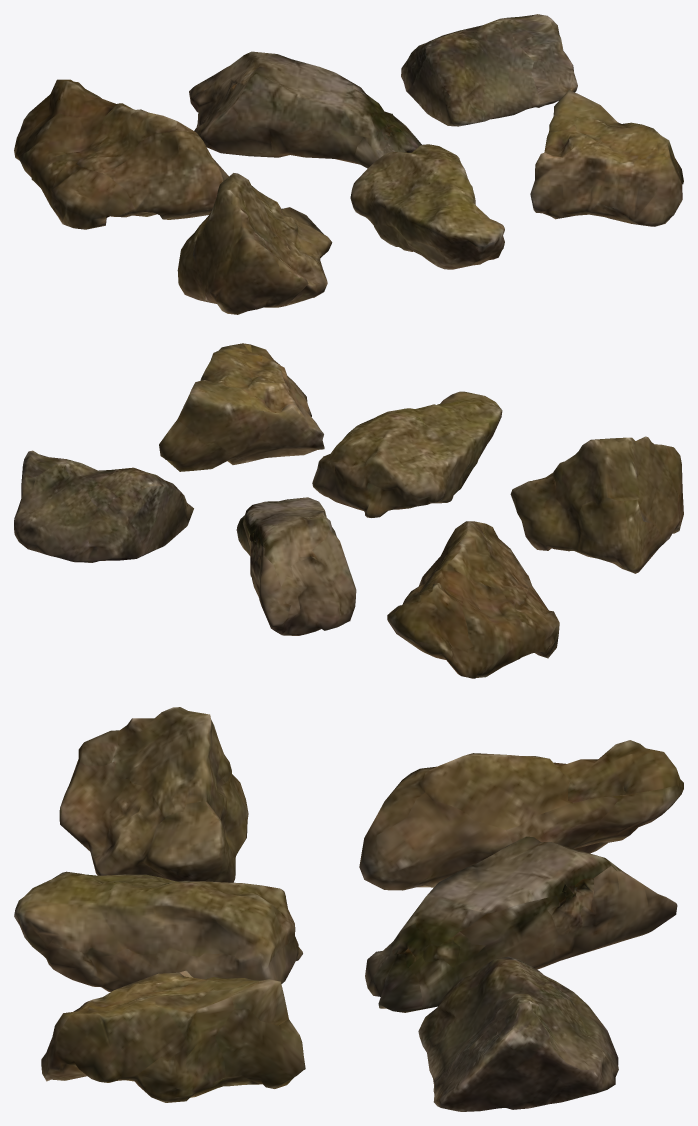
File: rock_moss_set_01.glb
The picture shows the model from 3 angles, top to bottom: view 1: azimuth 30°, elevation 25°; view 2: azimuth 150°, elevation 25°; view 3: azimuth 270°, elevation 25°; orthographic projection. The views are drawn at different scales.
Visible parts, largest first — view 1: rock_moss_set_01_rock01, rock_moss_set_01_rock02, rock_moss_set_01_rock06, rock_moss_set_01_rock04, rock_moss_set_01_rock03, rock_moss_set_01_rock05; view 2: rock_moss_set_01_rock04, rock_moss_set_01_rock01, rock_moss_set_01_rock05, rock_moss_set_01_rock03, rock_moss_set_01_rock06, rock_moss_set_01_rock02; view 3: rock_moss_set_01_rock01, rock_moss_set_01_rock02, rock_moss_set_01_rock05, rock_moss_set_01_rock04, rock_moss_set_01_rock06, rock_moss_set_01_rock03.
Part boxes in pixels (x1,y1,x2,y2): rock_moss_set_01_rock01: (14,79,228,229); rock_moss_set_01_rock02: (189,51,421,168); rock_moss_set_01_rock06: (530,89,683,226); rock_moss_set_01_rock04: (177,173,332,314); rock_moss_set_01_rock03: (401,14,577,126); rock_moss_set_01_rock05: (350,144,504,269); rock_moss_set_01_rock04: (510,436,683,573); rock_moss_set_01_rock01: (387,521,559,678); rock_moss_set_01_rock05: (312,391,502,517); rock_moss_set_01_rock03: (14,450,193,562); rock_moss_set_01_rock06: (159,343,324,471); rock_moss_set_01_rock02: (236,497,356,635); rock_moss_set_01_rock01: (359,740,683,890); rock_moss_set_01_rock02: (365,836,677,1012); rock_moss_set_01_rock05: (14,871,302,991); rock_moss_set_01_rock04: (59,707,248,882); rock_moss_set_01_rock06: (41,970,305,1102); rock_moss_set_01_rock03: (418,956,618,1111).
Bounding box in the file's own units: 8 × 1.76 × 6.94.
1 material, 1 textured.
